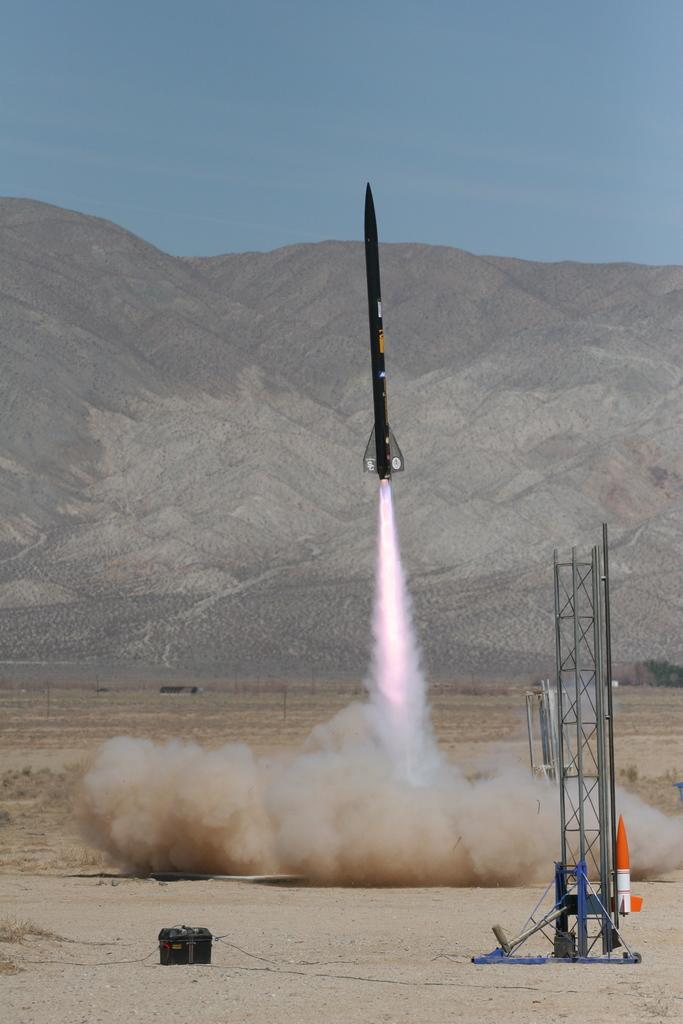Missile: (358, 179, 407, 483)
